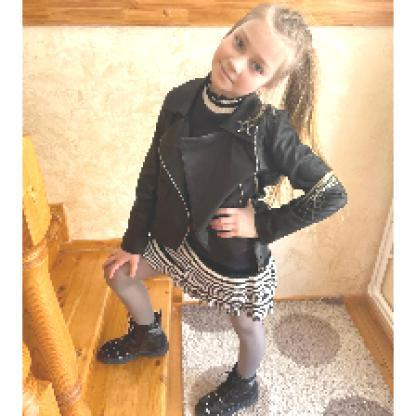child: (94, 3, 351, 416)
